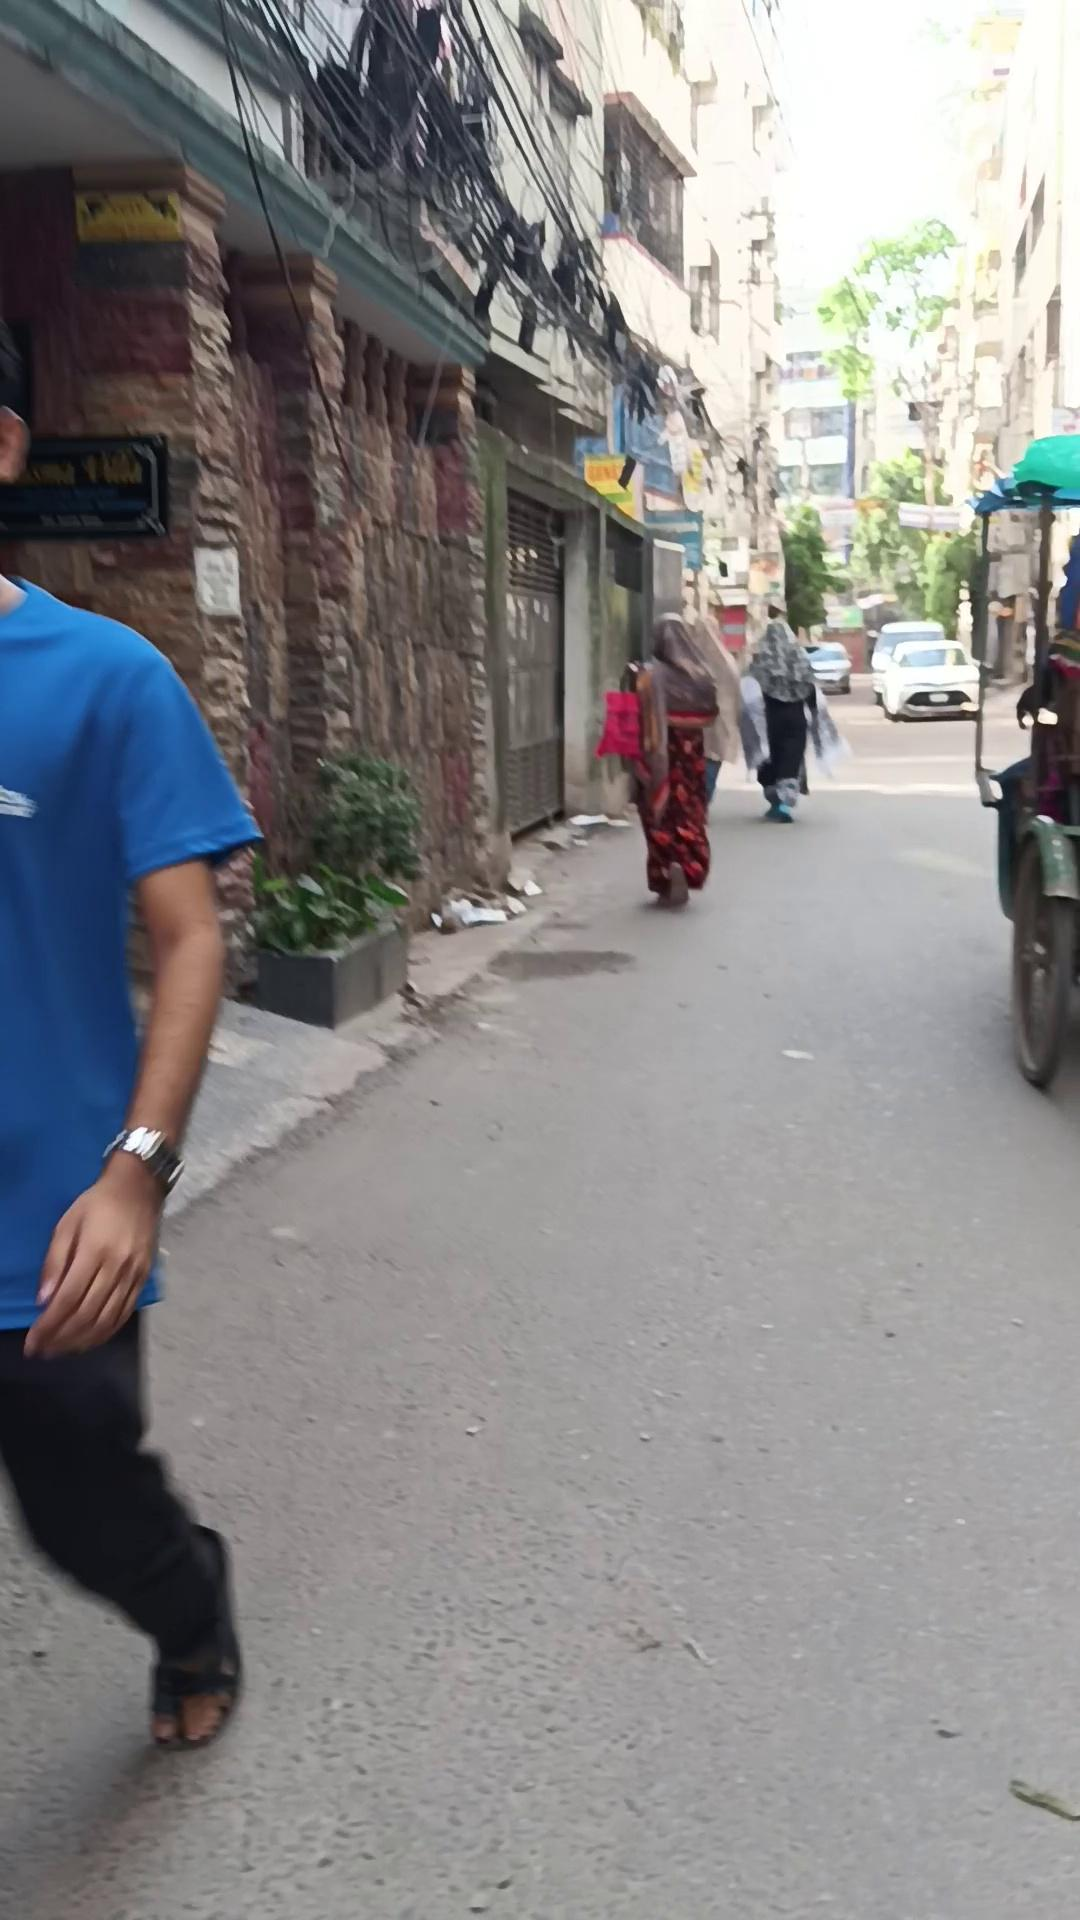Car: (800, 641, 852, 695)
Crosswalk: (150, 804, 636, 1240)
Muddy road: (0, 400, 266, 1749), (632, 611, 721, 906), (745, 592, 818, 822)
